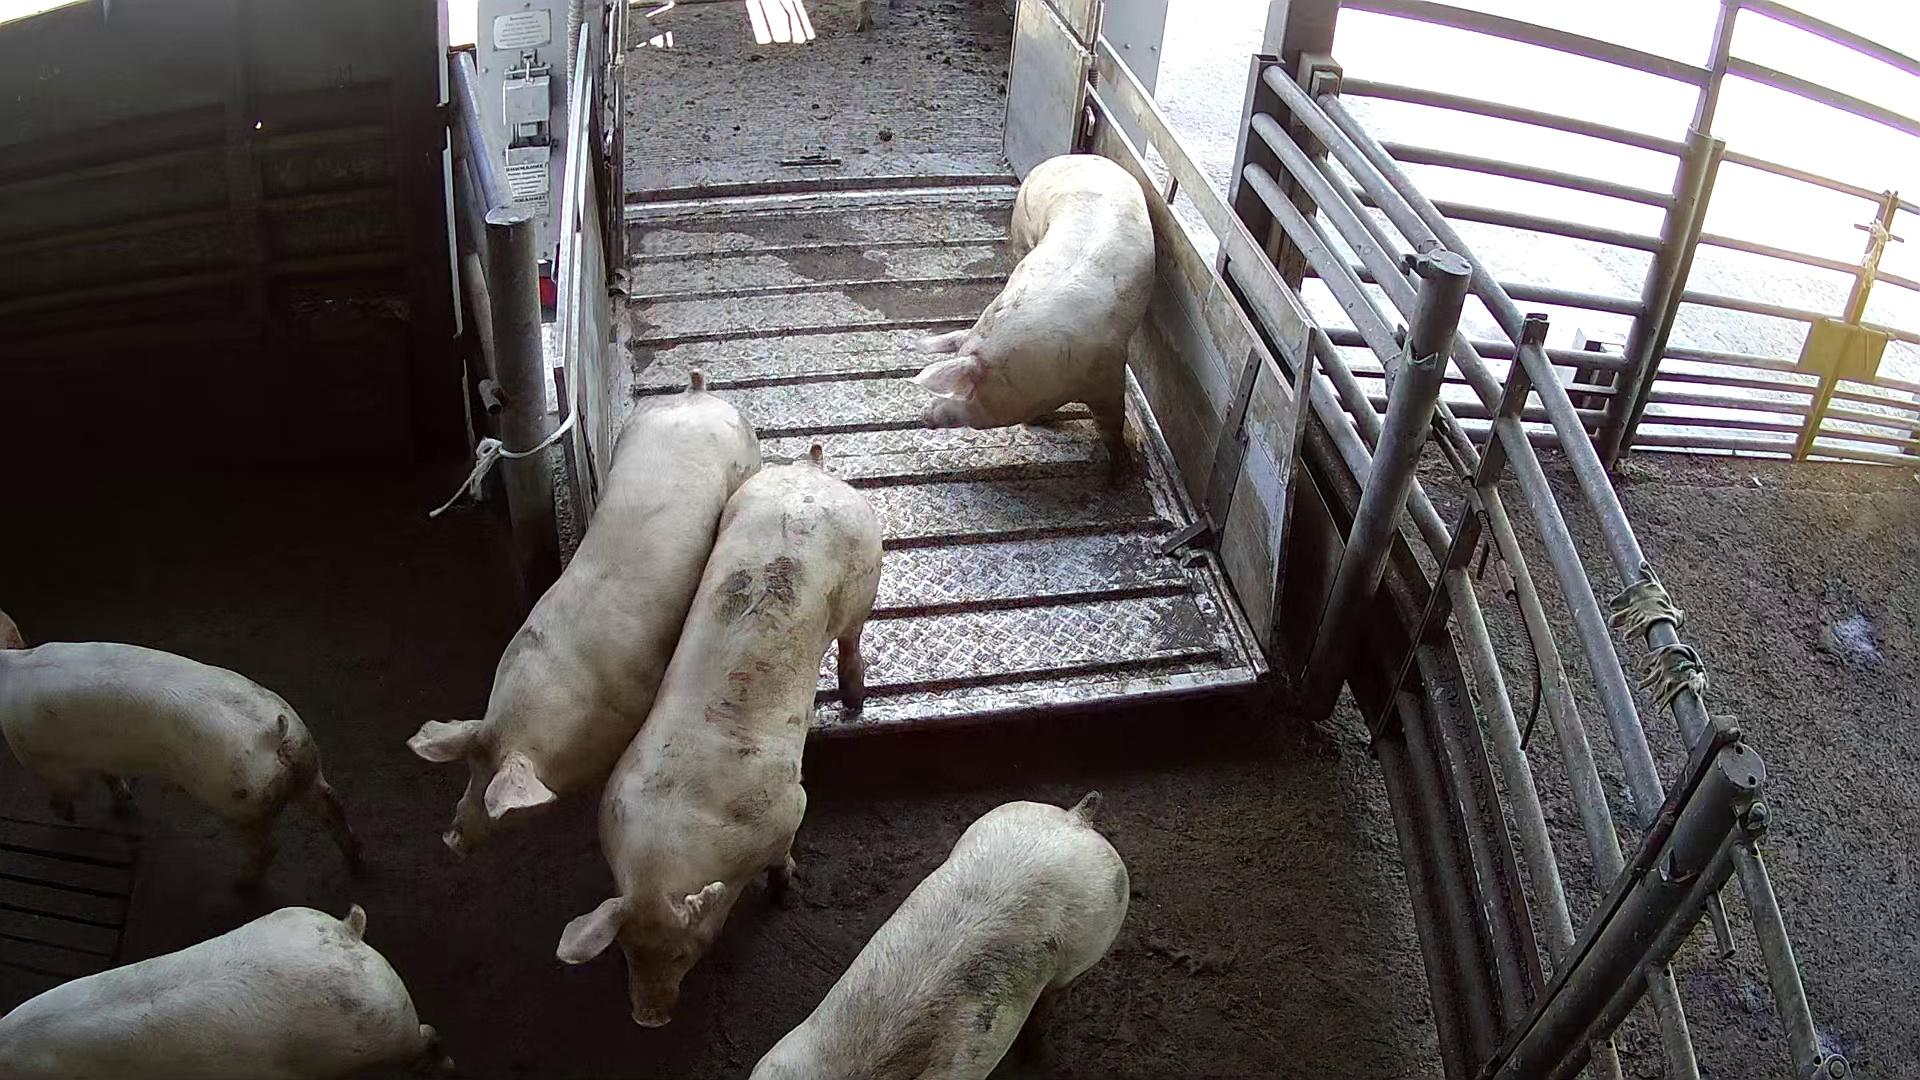Pig: (556, 446, 882, 1026), (407, 372, 761, 852), (750, 793, 1130, 1080), (0, 641, 357, 885), (0, 906, 434, 1080), (914, 152, 1155, 459)
